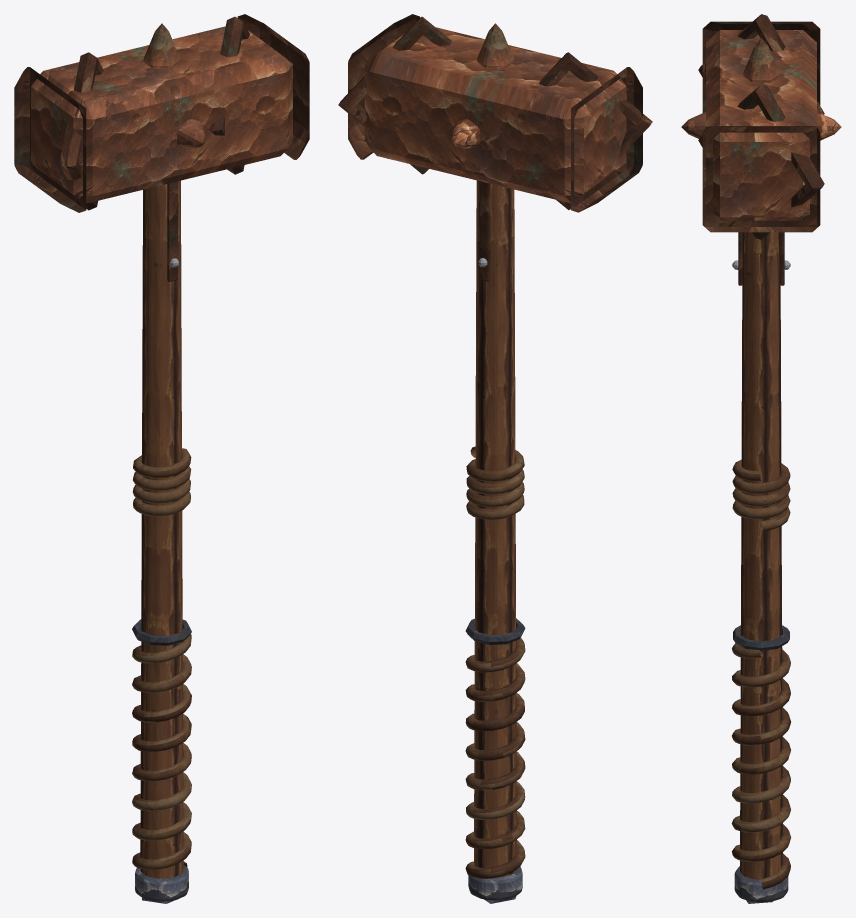
The model's file is mace_2h_copper.glb.
3 views of the same model, side by side, from view 1: azimuth 30°, elevation 25°; view 2: azimuth 150°, elevation 25°; view 3: azimuth 270°, elevation 25° (orthographic).
Parts seen in each view (by area): view 1: model; view 2: model; view 3: model.
Boxes of the visible parts, left/top/right/bottom form: model: left=14, top=14, right=309, bottom=903; model: left=338, top=14, right=652, bottom=903; model: left=681, top=14, right=841, bottom=903.
Bounding box in the file's own units: 0.4226 × 1.37 × 0.2322.
Materials: 8 (7 with a texture image).
